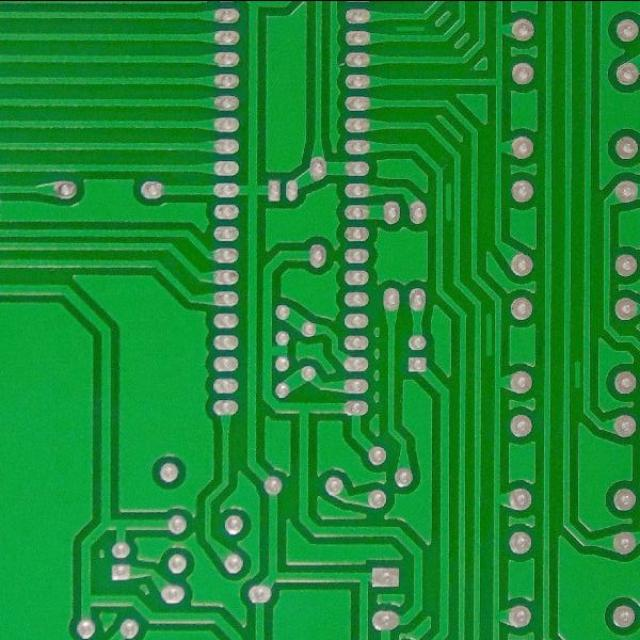spurious_copper: (481, 310, 499, 360), (440, 179, 458, 224), (570, 356, 588, 395), (392, 22, 427, 38)
